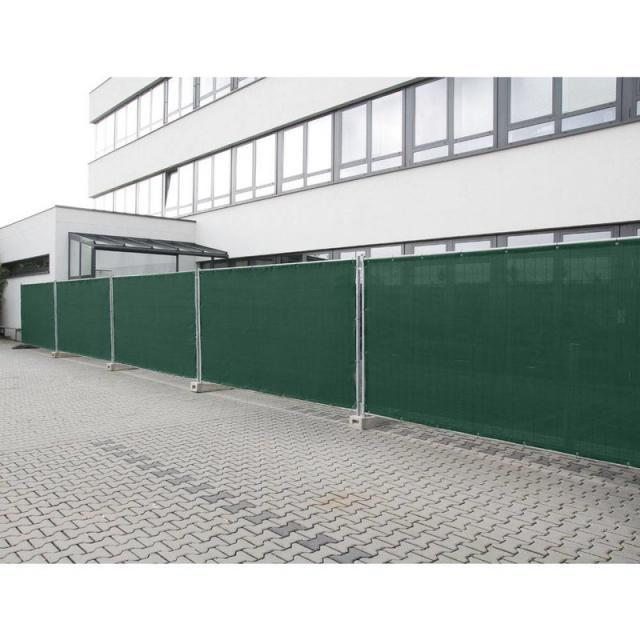fence line: (306, 254, 639, 476), (5, 272, 445, 413)
